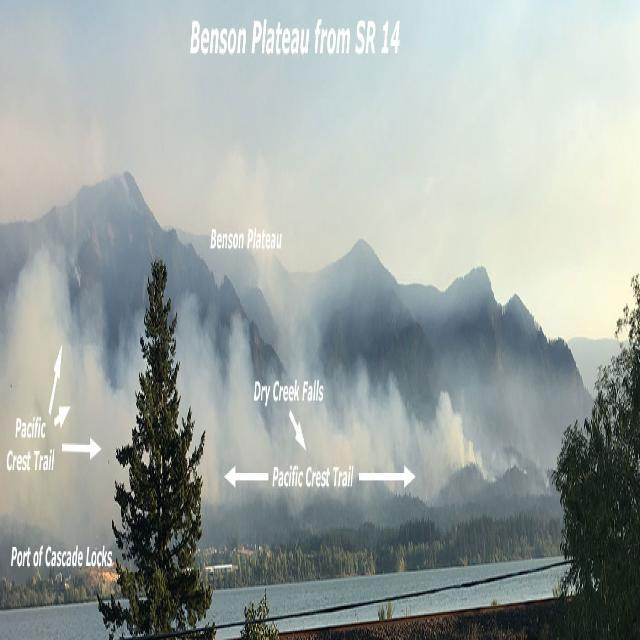Smoke: (0, 244, 506, 520)
